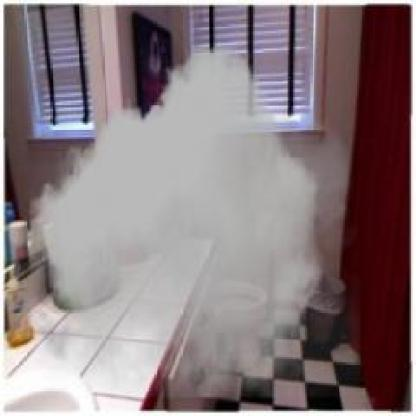Smoke: (24, 44, 361, 398)
